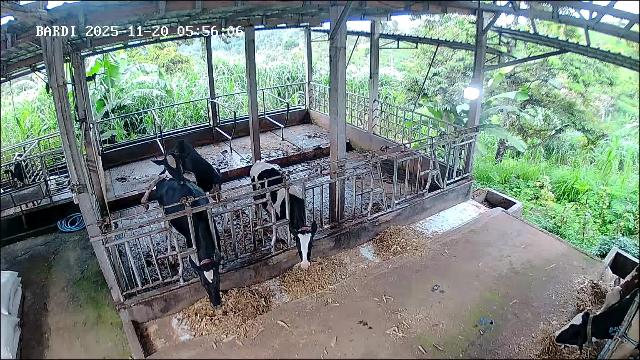mounting: (143, 140, 227, 215)
